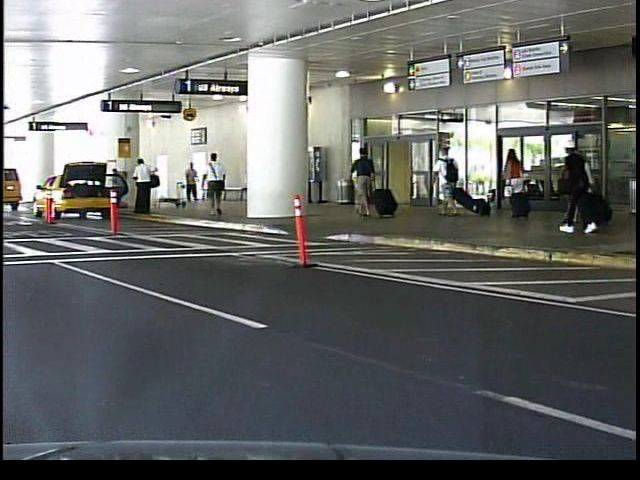person: (556, 129, 603, 241), (501, 140, 538, 226), (430, 141, 467, 220), (349, 141, 379, 224), (203, 143, 234, 216), (181, 159, 203, 207)
